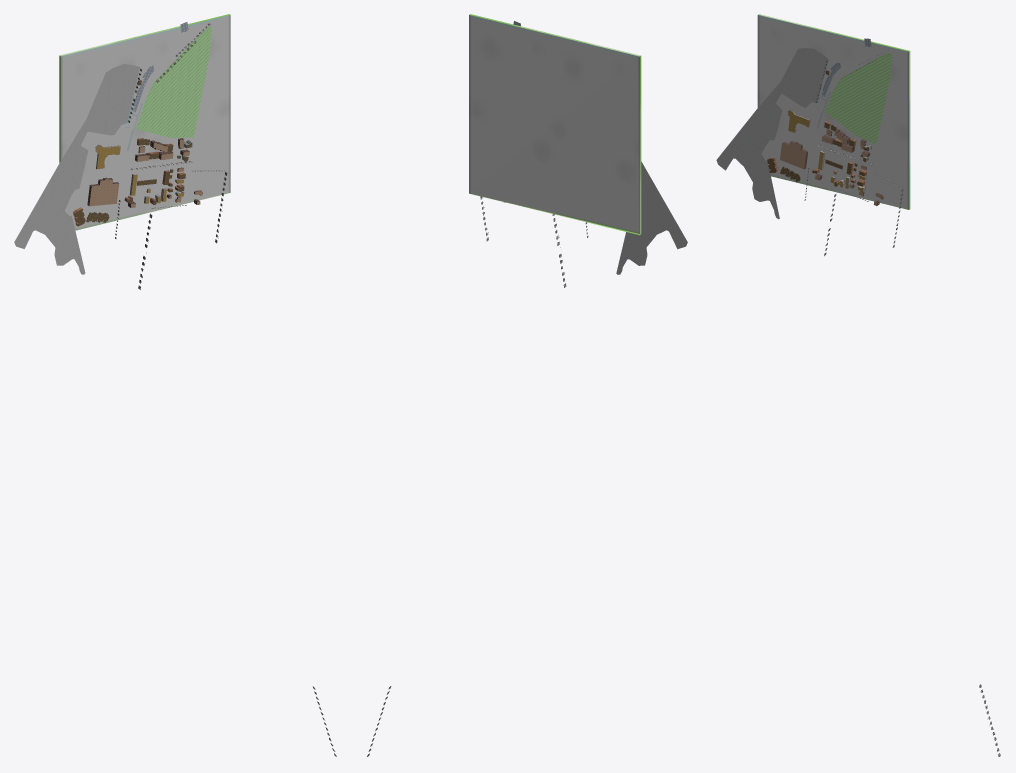
The picture shows the model from 3 angles, left to right: view 1: azimuth 30°, elevation 25°; view 2: azimuth 150°, elevation 25°; view 3: azimuth 330°, elevation 25°; orthographic projection. The views are drawn at different scales.
Visible parts, largest first — view 1: POLYGON, BUILDING, FONT; view 2: POLYGON; view 3: POLYGON, BUILDING, FONT.
Part boxes in pixels (bbox=[...]): POLYGON: bbox=[14, 14, 230, 274]; BUILDING: bbox=[73, 80, 202, 226]; FONT: bbox=[115, 23, 336, 756]; POLYGON: bbox=[469, 14, 687, 274]; POLYGON: bbox=[716, 14, 910, 219]; BUILDING: bbox=[767, 70, 883, 205]; FONT: bbox=[804, 50, 1000, 756].
Bounding box in the file's own units: 1151 × 2647 × 29.
Materials: 3 (3 with a texture image).
